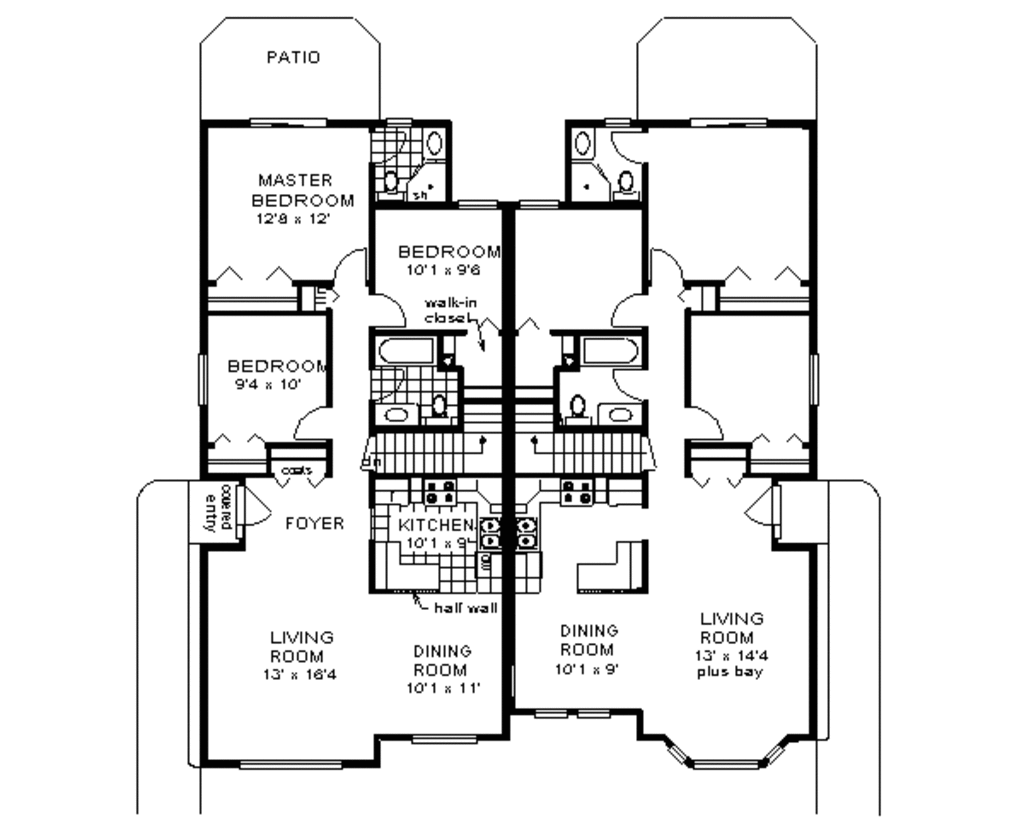door: (327, 238, 374, 287), (230, 486, 280, 529), (368, 283, 411, 330), (684, 399, 730, 440), (746, 479, 784, 526), (610, 283, 647, 329), (289, 404, 332, 441), (611, 127, 650, 167), (645, 243, 685, 281), (368, 364, 406, 399), (611, 370, 651, 399)
large_sink: (373, 169, 409, 199), (561, 393, 593, 425), (611, 168, 640, 202), (429, 393, 455, 425)
small_sink: (417, 127, 454, 161), (598, 405, 648, 427), (577, 121, 602, 163), (373, 404, 417, 424)
stairs: (457, 312, 512, 474), (514, 427, 665, 476), (361, 431, 501, 479), (517, 312, 558, 468)
tub: (575, 331, 645, 371), (375, 337, 442, 367)
window: (238, 756, 346, 771), (188, 346, 215, 405), (409, 728, 483, 746), (571, 699, 617, 722), (809, 349, 823, 413), (534, 706, 570, 720)
